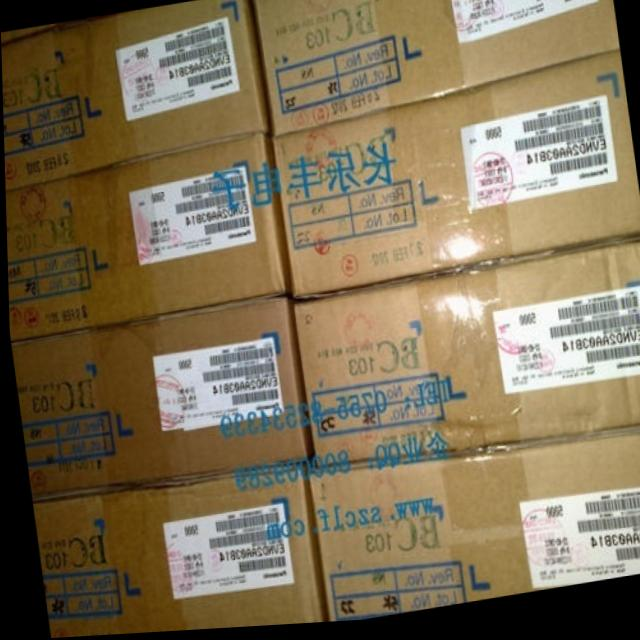box: (268, 59, 640, 304), (291, 253, 640, 471), (308, 434, 640, 625), (10, 301, 310, 500), (4, 140, 287, 341), (249, 0, 619, 138), (1, 0, 266, 190), (31, 469, 326, 638)
